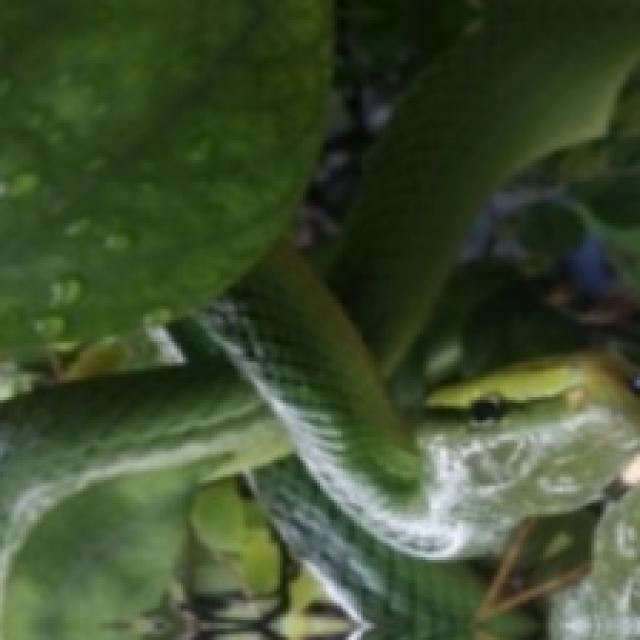red-tailed green ratsnake: (0, 2, 640, 639)
